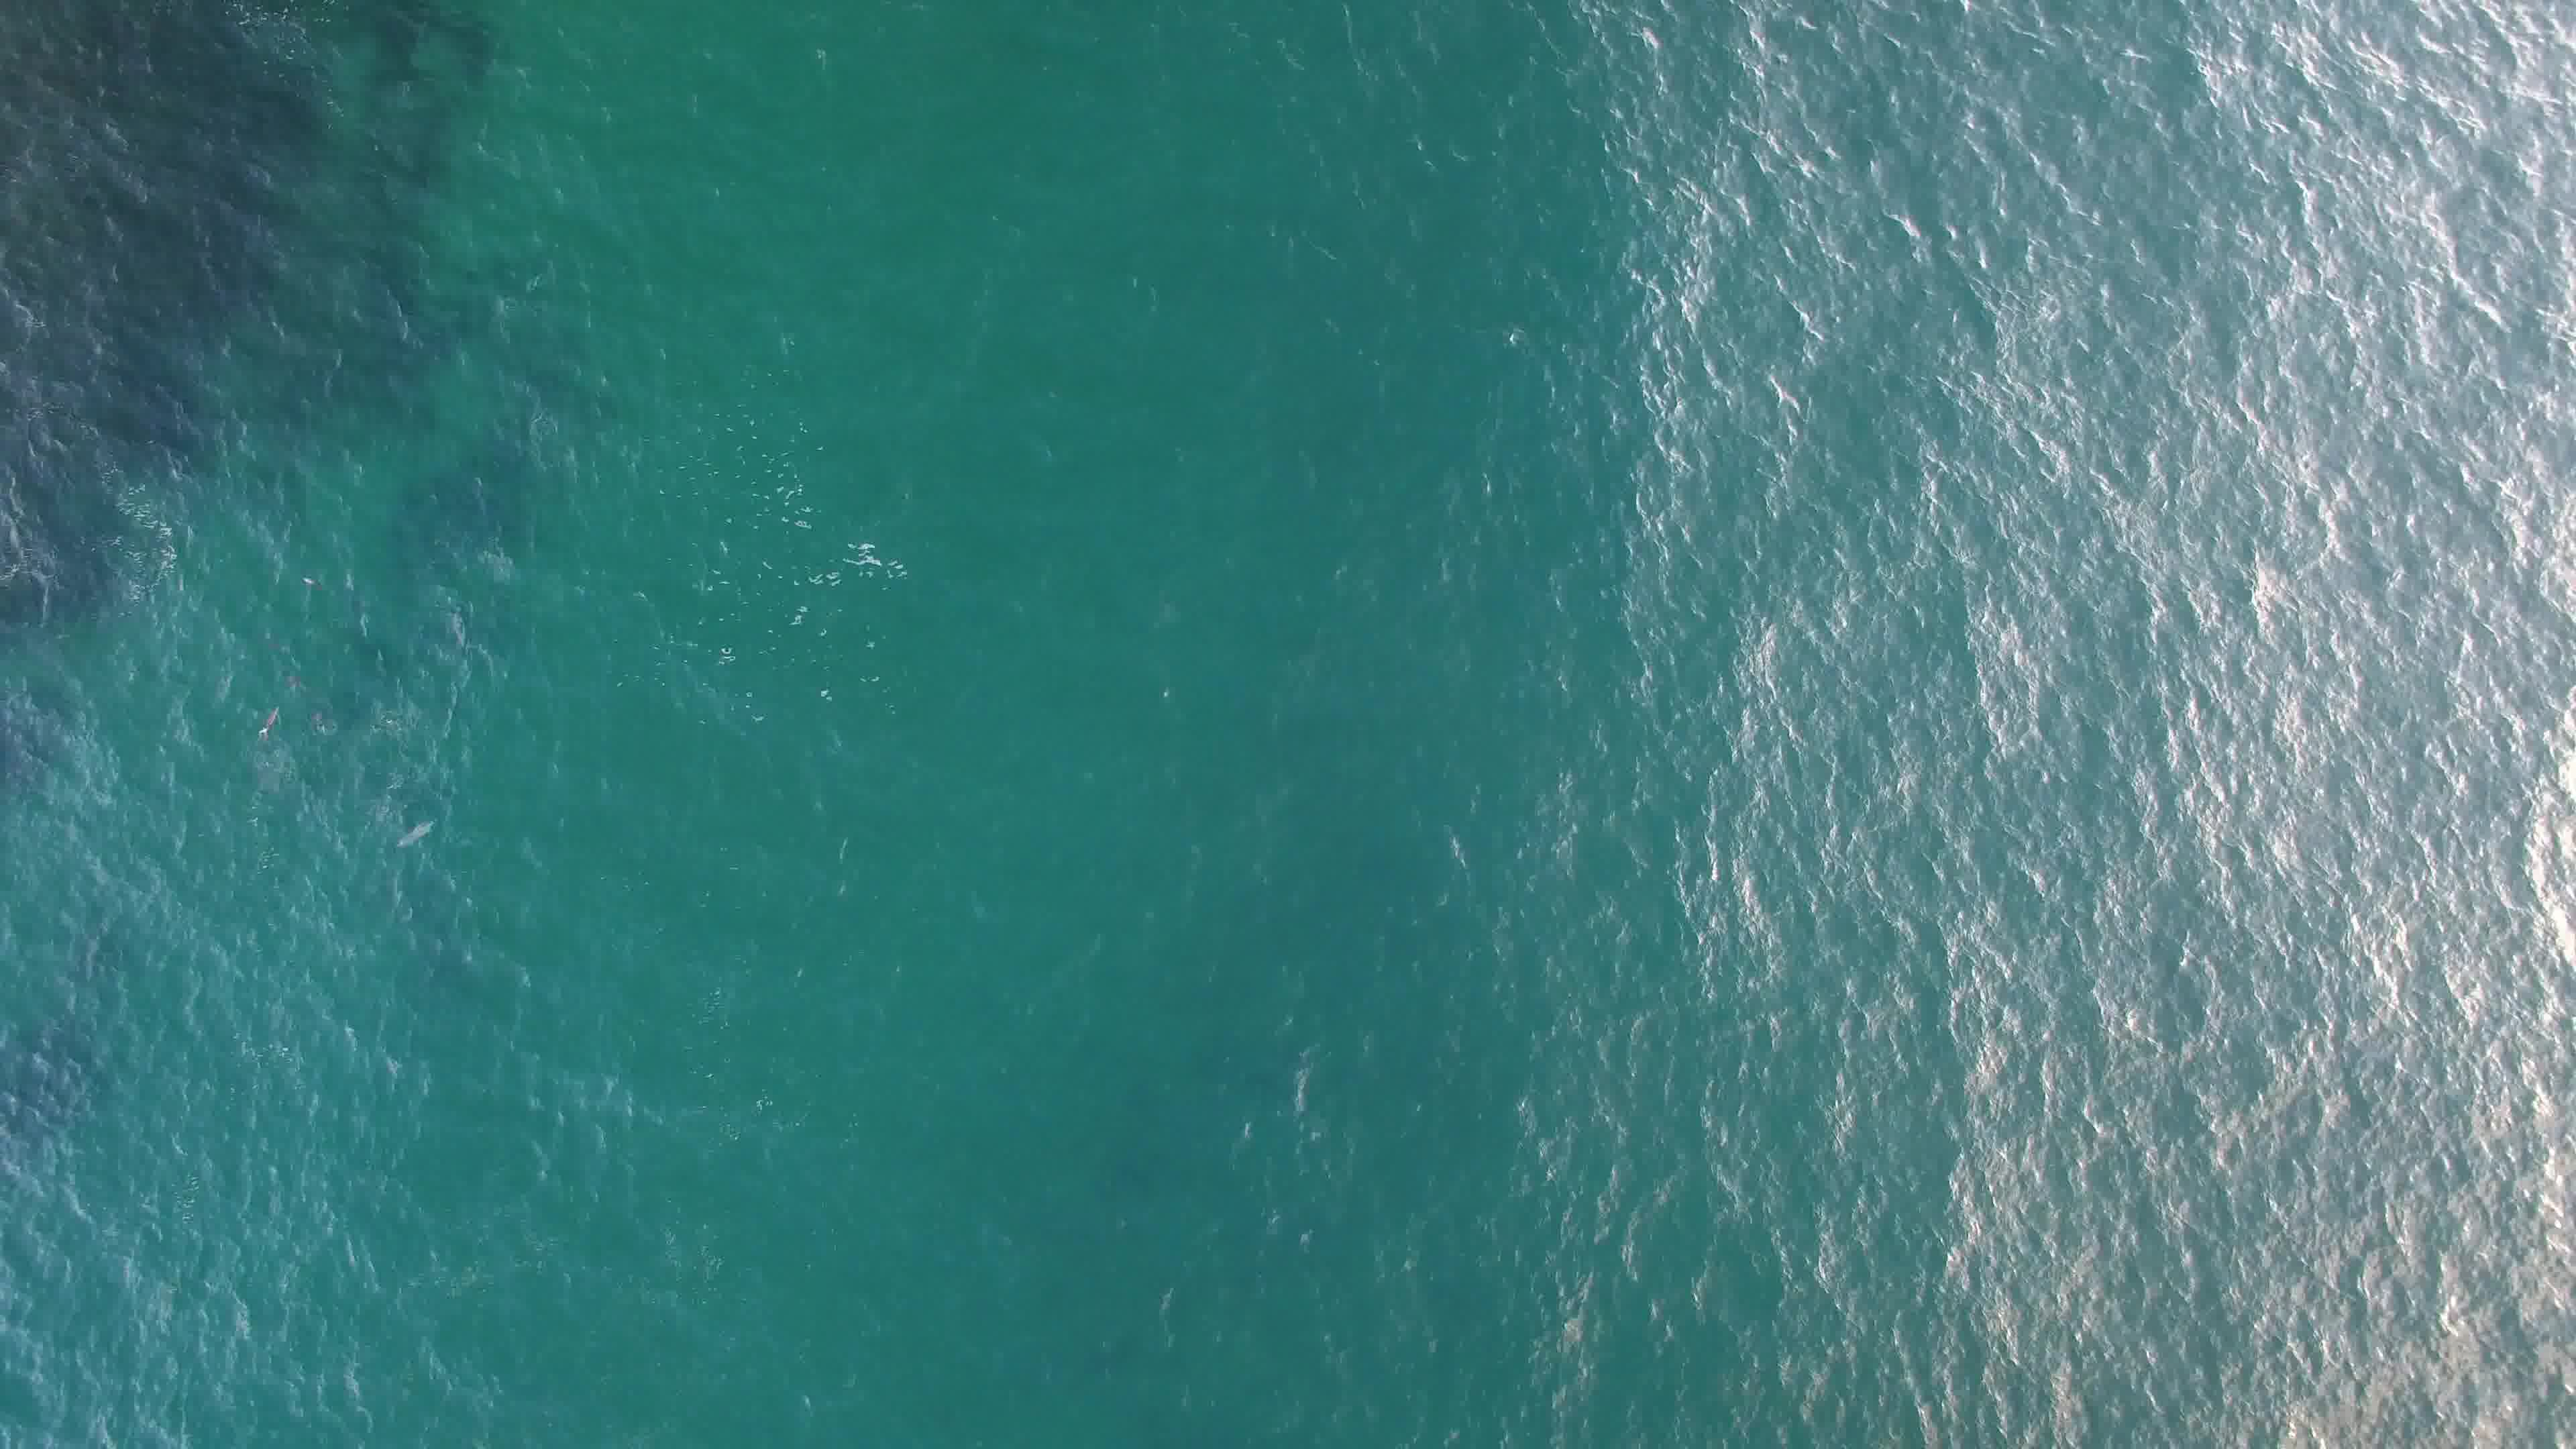dolphin: (386, 807, 448, 858), (251, 695, 287, 743)
